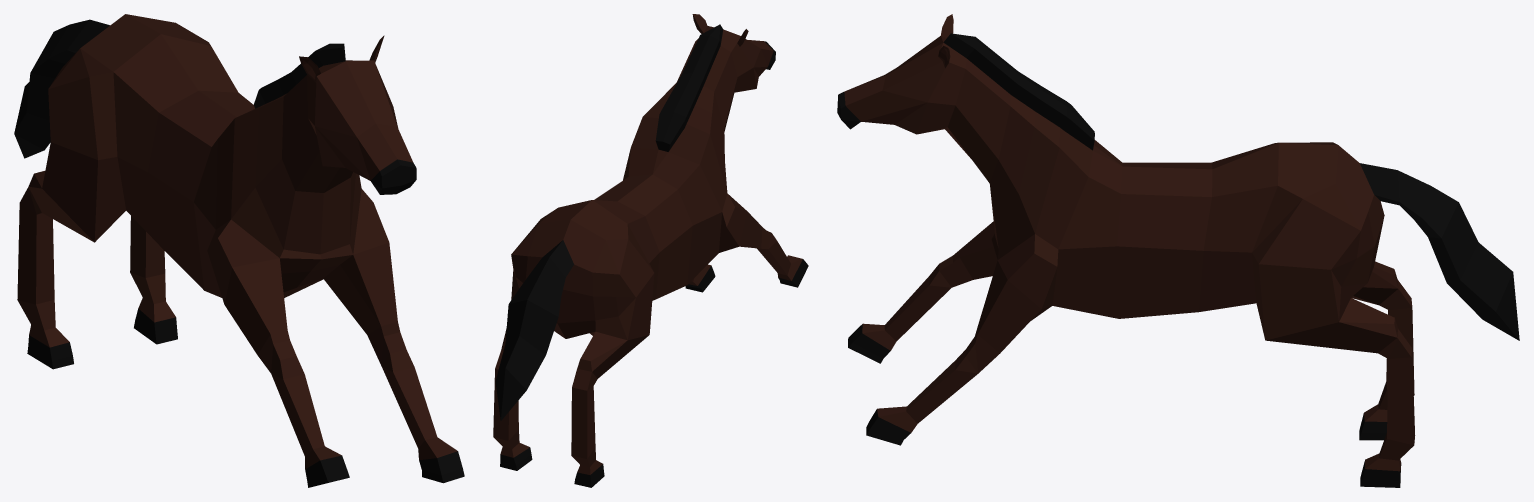
Rendered from Horse_000010.obj.
3 renders of one model, left to right at view 1: azimuth 30°, elevation 25°; view 2: azimuth 150°, elevation 25°; view 3: azimuth 270°, elevation 25°, orthographic. The views are drawn at different scales.
Visible parts, largest first — view 1: Horse_Cylinder; view 2: Horse_Cylinder; view 3: Horse_Cylinder.
Part boxes in pixels (x1,y1,x2,y2): Horse_Cylinder: (14,14,464,487); Horse_Cylinder: (493,14,808,487); Horse_Cylinder: (837,14,1519,487).
Bounding box in the file's own units: 2.55 × 6.78 × 9.79.
